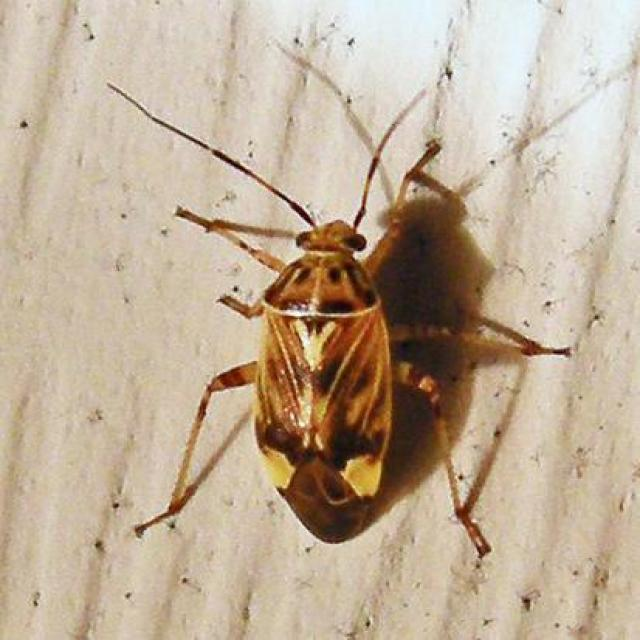Miridae-Adult-: (113, 73, 562, 584)
